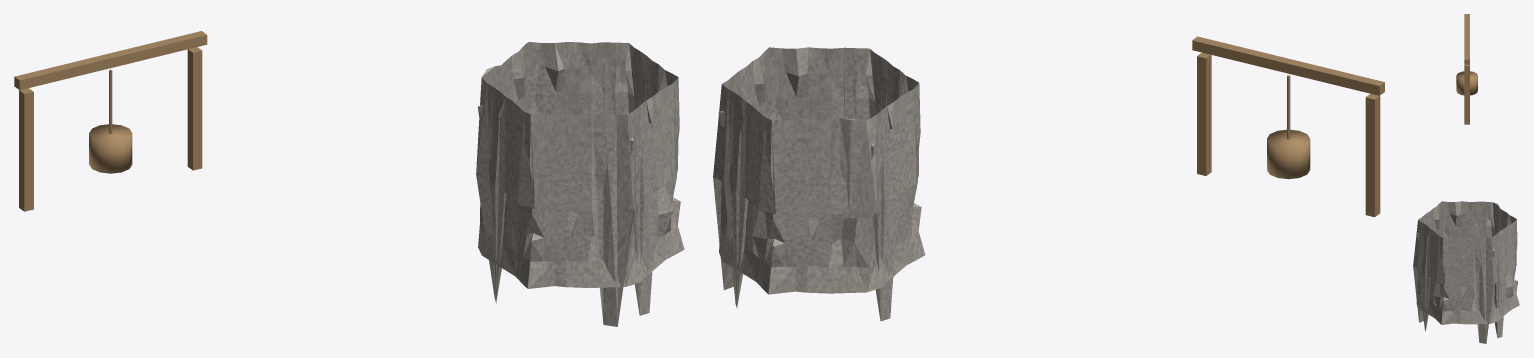
Rendered from stone_well_r5_v3.glb.
3 views of the same model, side by side, from view 1: azimuth 30°, elevation 25°; view 2: azimuth 150°, elevation 25°; view 3: azimuth 270°, elevation 25° (orthographic). The views are drawn at different scales.
Visible parts, largest first — view 1: stone_well_lp, well_crossbeam, well_bucket, well_post_r, well_post_l; view 2: stone_well_lp, well_crossbeam, well_bucket, well_post_l, well_post_r; view 3: stone_well_lp, well_bucket, well_post_r, well_crossbeam.
Boxes of the visible parts, x1,y1,x2,y2 form: stone_well_lp: (476,42,684,326); well_crossbeam: (14,31,207,90); well_bucket: (89,124,132,173); well_post_r: (187,47,202,170); well_post_l: (19,88,33,211); stone_well_lp: (713,47,925,321); well_crossbeam: (1192,36,1384,95); well_bucket: (1267,129,1310,179); well_post_l: (1365,93,1380,217); well_post_r: (1197,52,1211,175); stone_well_lp: (1413,201,1519,343); well_bucket: (1456,71,1477,95); well_post_r: (1464,64,1469,124); well_crossbeam: (1464,14,1469,64).
Size of the model in its own units: 3.43 by 1.77 by 0.987.
2 materials, 1 textured.
